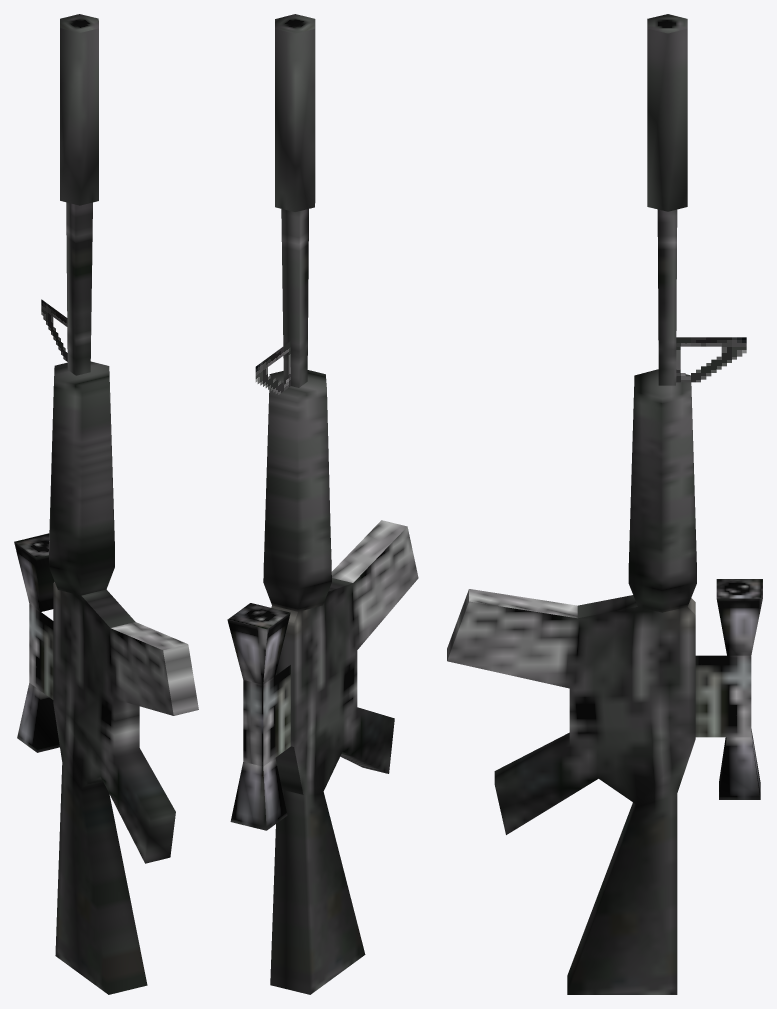
Rendered from Rifle03_ColtCommando.glb.
3 renders of one model, left to right at view 1: azimuth 30°, elevation 25°; view 2: azimuth 150°, elevation 25°; view 3: azimuth 270°, elevation 25°, orthographic. The views are drawn at different scales.
Visible parts, largest first — view 1: RIFLE03_COLTCOMMANDO; view 2: RIFLE03_COLTCOMMANDO; view 3: RIFLE03_COLTCOMMANDO.
Part boxes in pixels (x1,y1,x2,y2): RIFLE03_COLTCOMMANDO: (14, 14, 198, 994); RIFLE03_COLTCOMMANDO: (227, 14, 418, 994); RIFLE03_COLTCOMMANDO: (447, 14, 762, 994).
Bounding box in the file's own units: 0.068 × 0.917 × 0.273.
Materials: 2 (2 with a texture image).
